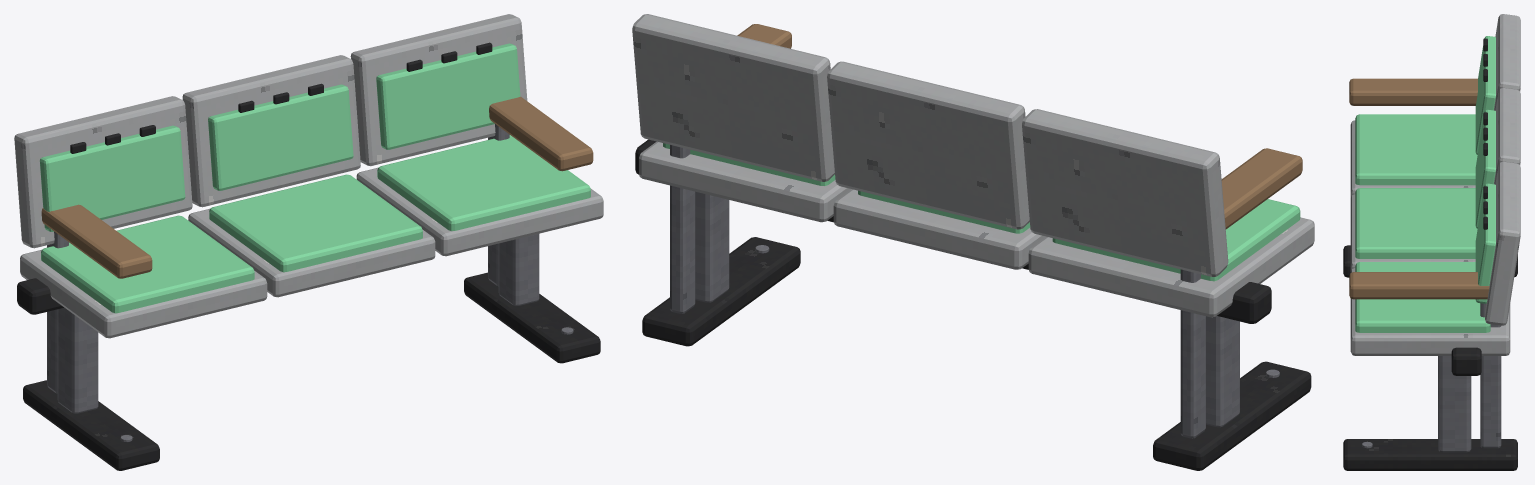
File: lbd_waiting_bench_v2.glb
The picture shows the model from 3 angles, left to right: view 1: azimuth 30°, elevation 25°; view 2: azimuth 150°, elevation 25°; view 3: azimuth 270°, elevation 25°; orthographic projection. The views are drawn at different scales.
Parts seen in each view (by area): view 1: waiting_bench_v2__seat pad_058, waiting_bench_v2__seat pad_079, waiting_bench_v2__back pad_064, waiting_bench_v2__seat pad_037, waiting_bench_v2__back pad_085, waiting_bench_v2__back pad_043, waiting_bench_v2__back shell_061, waiting_bench_v2__back shell_040, waiting_bench_v2__back shell_082, waiting_bench_v2__seat shell_034, waiting_bench_v2__seat shell_055, waiting_bench_v2__seat shell_076 (+9 smaller); view 2: waiting_bench_v2__back shell_040, waiting_bench_v2__back shell_082, waiting_bench_v2__back shell_061, waiting_bench_v2__seat shell_034, waiting_bench_v2__seat shell_055, waiting_bench_v2__seat shell_076, waiting_bench_v2__foot_017, waiting_bench_v2__foot_003, waiting_bench_v2__upright_020, waiting_bench_v2__seat pad_037, waiting_bench_v2__upright_006, waiting_bench_v2__wood arm_012 (+6 smaller); view 3: waiting_bench_v2__seat pad_037, waiting_bench_v2__seat pad_058, waiting_bench_v2__seat pad_079, waiting_bench_v2__foot_017, waiting_bench_v2__back shell_082, waiting_bench_v2__seat shell_076, waiting_bench_v2__wood arm_026, waiting_bench_v2__wood arm_012, waiting_bench_v2__upright_020, waiting_bench_v2__arm support_023, waiting_bench_v2__back shell_040, waiting_bench_v2__back shell_061 (+7 smaller).
Part boxes in pixels (x1,y1,x2,y2): waiting_bench_v2__seat pad_058: [209, 174, 422, 272]; waiting_bench_v2__seat pad_079: [377, 135, 590, 231]; waiting_bench_v2__back pad_064: [208, 84, 353, 190]; waiting_bench_v2__seat pad_037: [41, 215, 254, 313]; waiting_bench_v2__back pad_085: [376, 43, 520, 149]; waiting_bench_v2__back pad_043: [39, 125, 185, 231]; waiting_bench_v2__back shell_061: [182, 55, 360, 207]; waiting_bench_v2__back shell_040: [14, 96, 192, 248]; waiting_bench_v2__back shell_082: [350, 14, 527, 166]; waiting_bench_v2__seat shell_034: [20, 249, 267, 338]; waiting_bench_v2__seat shell_055: [188, 208, 435, 297]; waiting_bench_v2__seat shell_076: [356, 167, 603, 256]; waiting_bench_v2__back shell_040: [1022, 109, 1228, 276]; waiting_bench_v2__back shell_082: [632, 14, 834, 181]; waiting_bench_v2__back shell_061: [827, 61, 1029, 229]; waiting_bench_v2__seat shell_034: [1028, 217, 1314, 317]; waiting_bench_v2__seat shell_055: [833, 189, 1045, 269]; waiting_bench_v2__seat shell_076: [639, 141, 850, 222]; waiting_bench_v2__foot_017: [642, 237, 800, 346]; waiting_bench_v2__foot_003: [1153, 361, 1311, 470]; waiting_bench_v2__upright_020: [695, 191, 729, 302]; waiting_bench_v2__seat pad_037: [1052, 199, 1300, 281]; waiting_bench_v2__upright_006: [1206, 316, 1239, 427]; waiting_bench_v2__wood arm_012: [1221, 148, 1302, 229]; waiting_bench_v2__seat pad_037: [1355, 114, 1477, 185]; waiting_bench_v2__seat pad_058: [1355, 188, 1477, 258]; waiting_bench_v2__seat pad_079: [1355, 262, 1490, 332]; waiting_bench_v2__foot_017: [1343, 439, 1517, 470]; waiting_bench_v2__back shell_082: [1485, 161, 1520, 325]; waiting_bench_v2__seat shell_076: [1350, 268, 1510, 355]; waiting_bench_v2__wood arm_026: [1349, 272, 1489, 299]; waiting_bench_v2__wood arm_012: [1349, 78, 1477, 105]; waiting_bench_v2__upright_020: [1438, 356, 1471, 452]; waiting_bench_v2__arm support_023: [1480, 303, 1501, 448]; waiting_bench_v2__back shell_040: [1494, 14, 1520, 110]; waiting_bench_v2__back shell_061: [1494, 88, 1520, 184].
Bounding box in the file's own units: 1.85 × 0.8964 × 0.5894.
5 materials, 3 textured.
